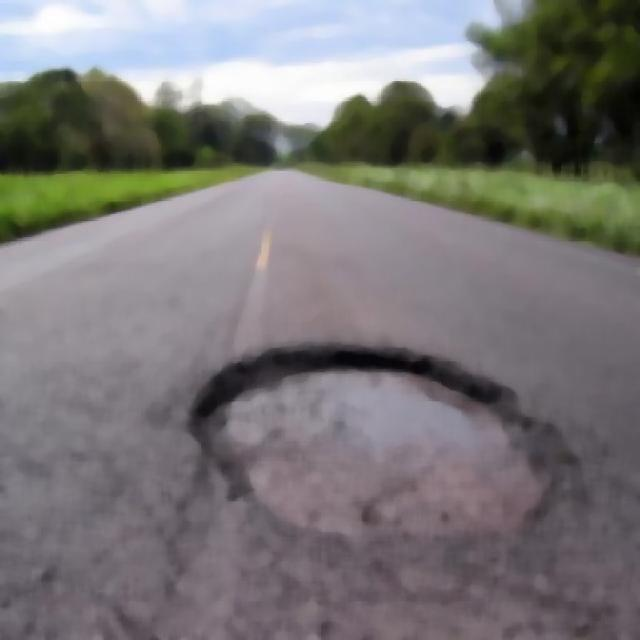Pothole: (206, 369, 557, 533)
